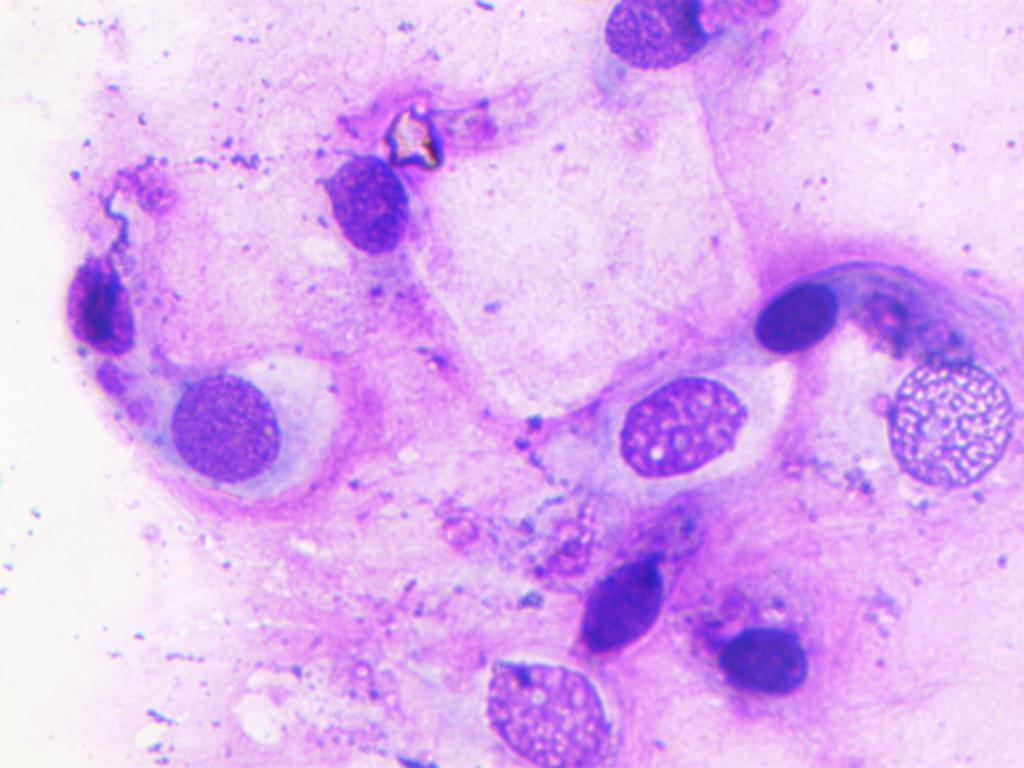ciliated: (753, 258, 997, 365)
epithelial: (870, 346, 1023, 512), (615, 336, 752, 508), (147, 366, 320, 487), (472, 661, 634, 768), (51, 233, 153, 378), (705, 595, 842, 697), (319, 146, 419, 283), (562, 546, 684, 647)
goblet_cell: (597, 1, 802, 74)
